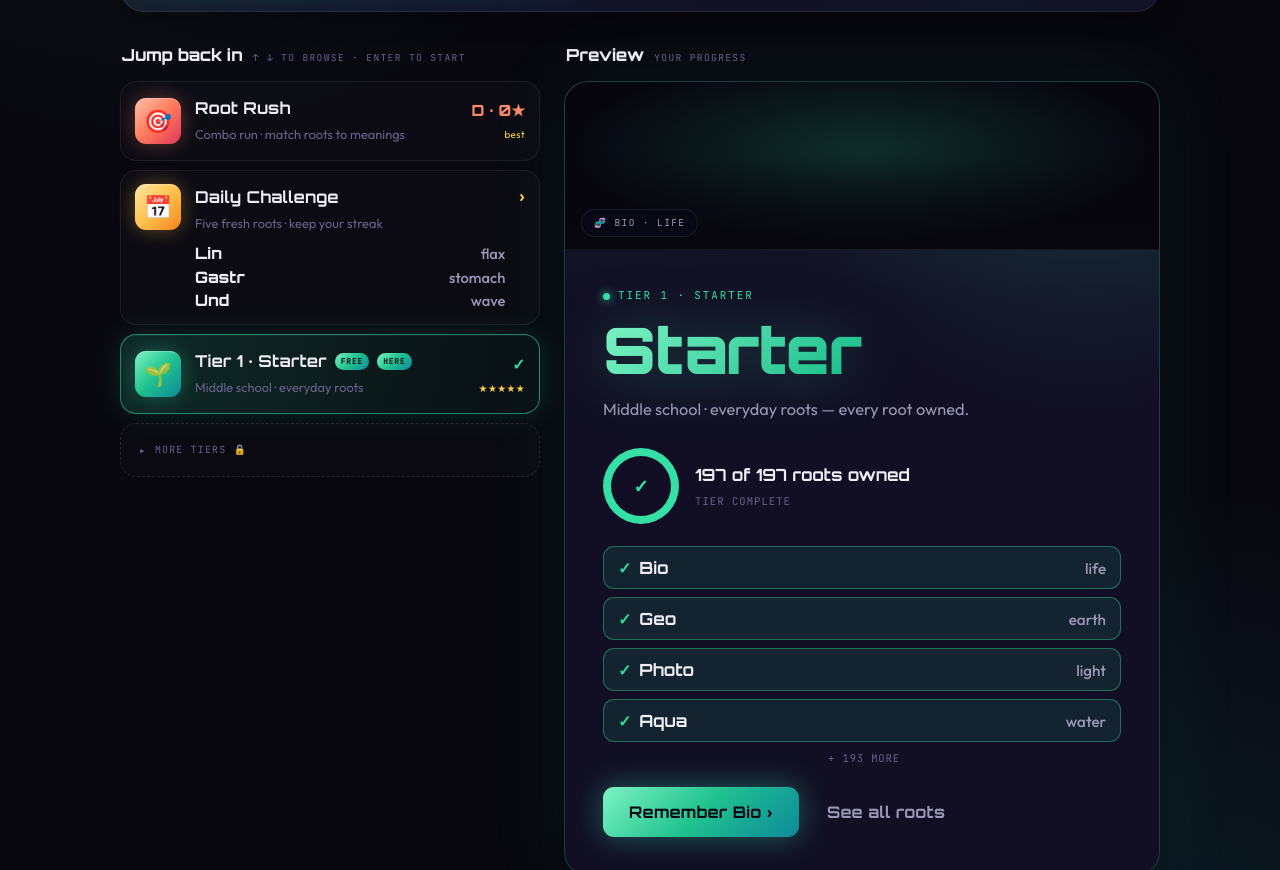
Test: hybrid gate: kids ask, grown-ups pass a check › opens Ask a grown-up from a locked tier, with no store and no account
Later steps or results of the test are not shown.
(page scrolled)
Click the heading "More tiers 🔒".
click(201, 450)  # box [155,443,247,456]
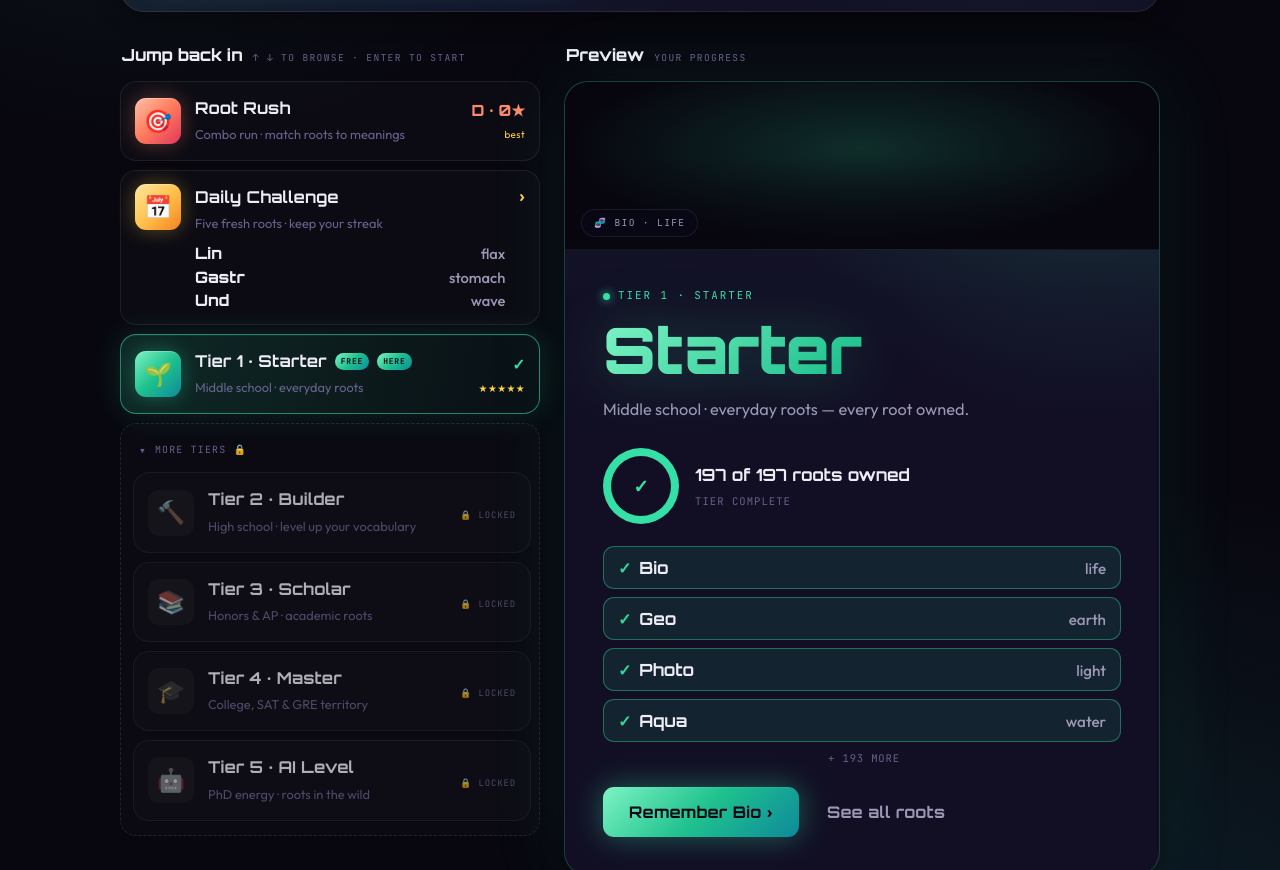
Click the option with class "ww-menu-row" that starts with "Tier 2 · Builder".
click(171, 512)  # box [133,472,531,553]
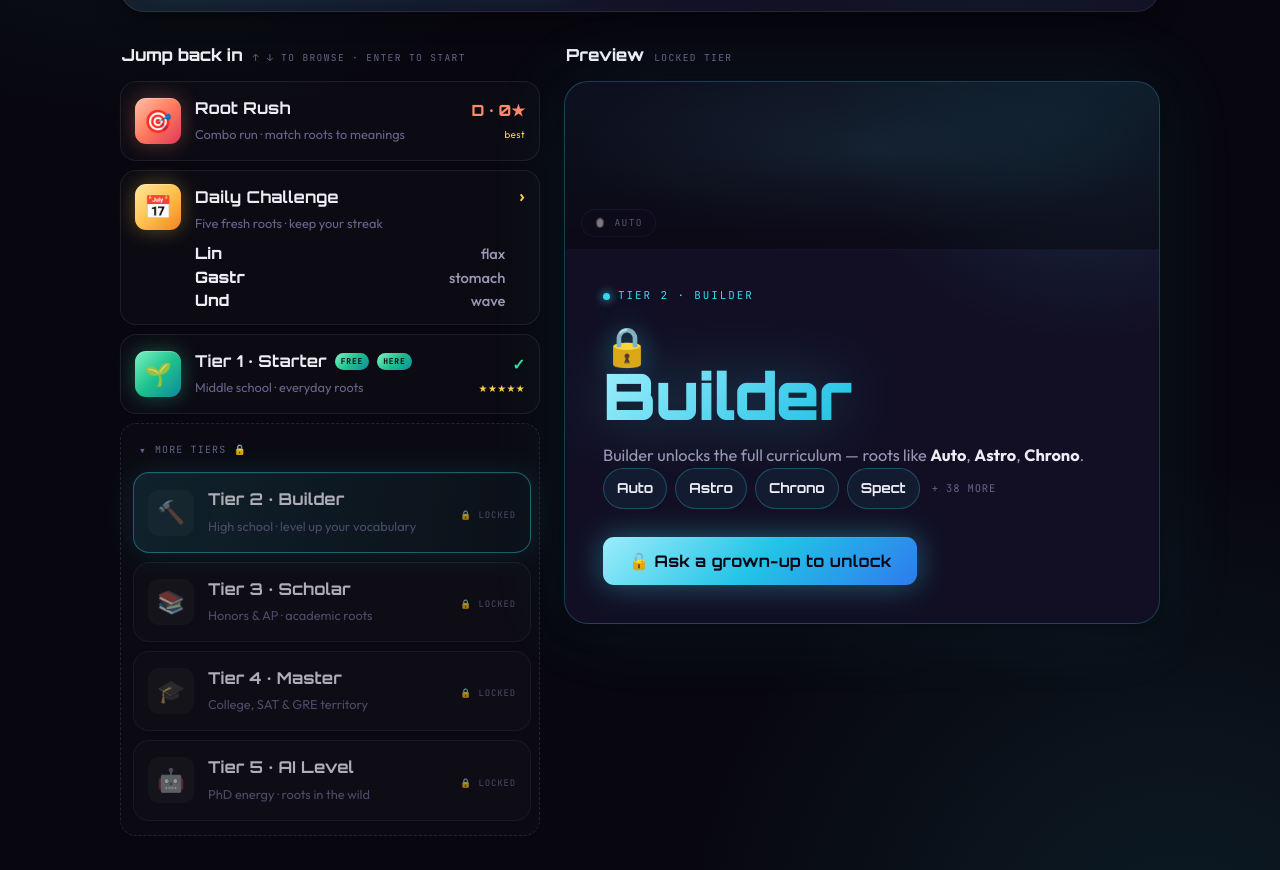
Click the button "🔓 Ask a grown-up to unlock".
click(760, 560)  # box [603,536,918,584]
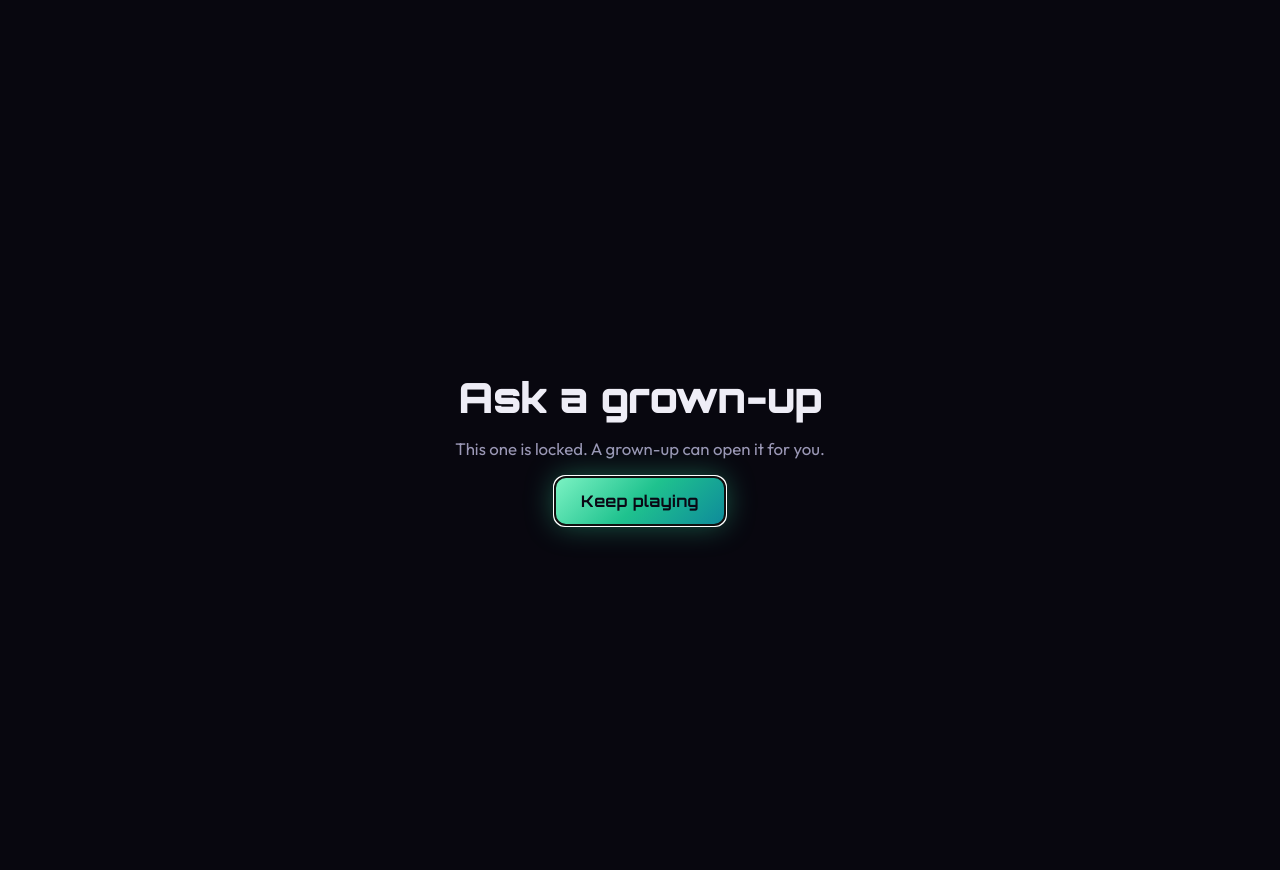
Result: the dialog shows "This one is locked" at [455,438,825,459]
Result: the dialog shows "Keep playing" at [555,477,725,525]
